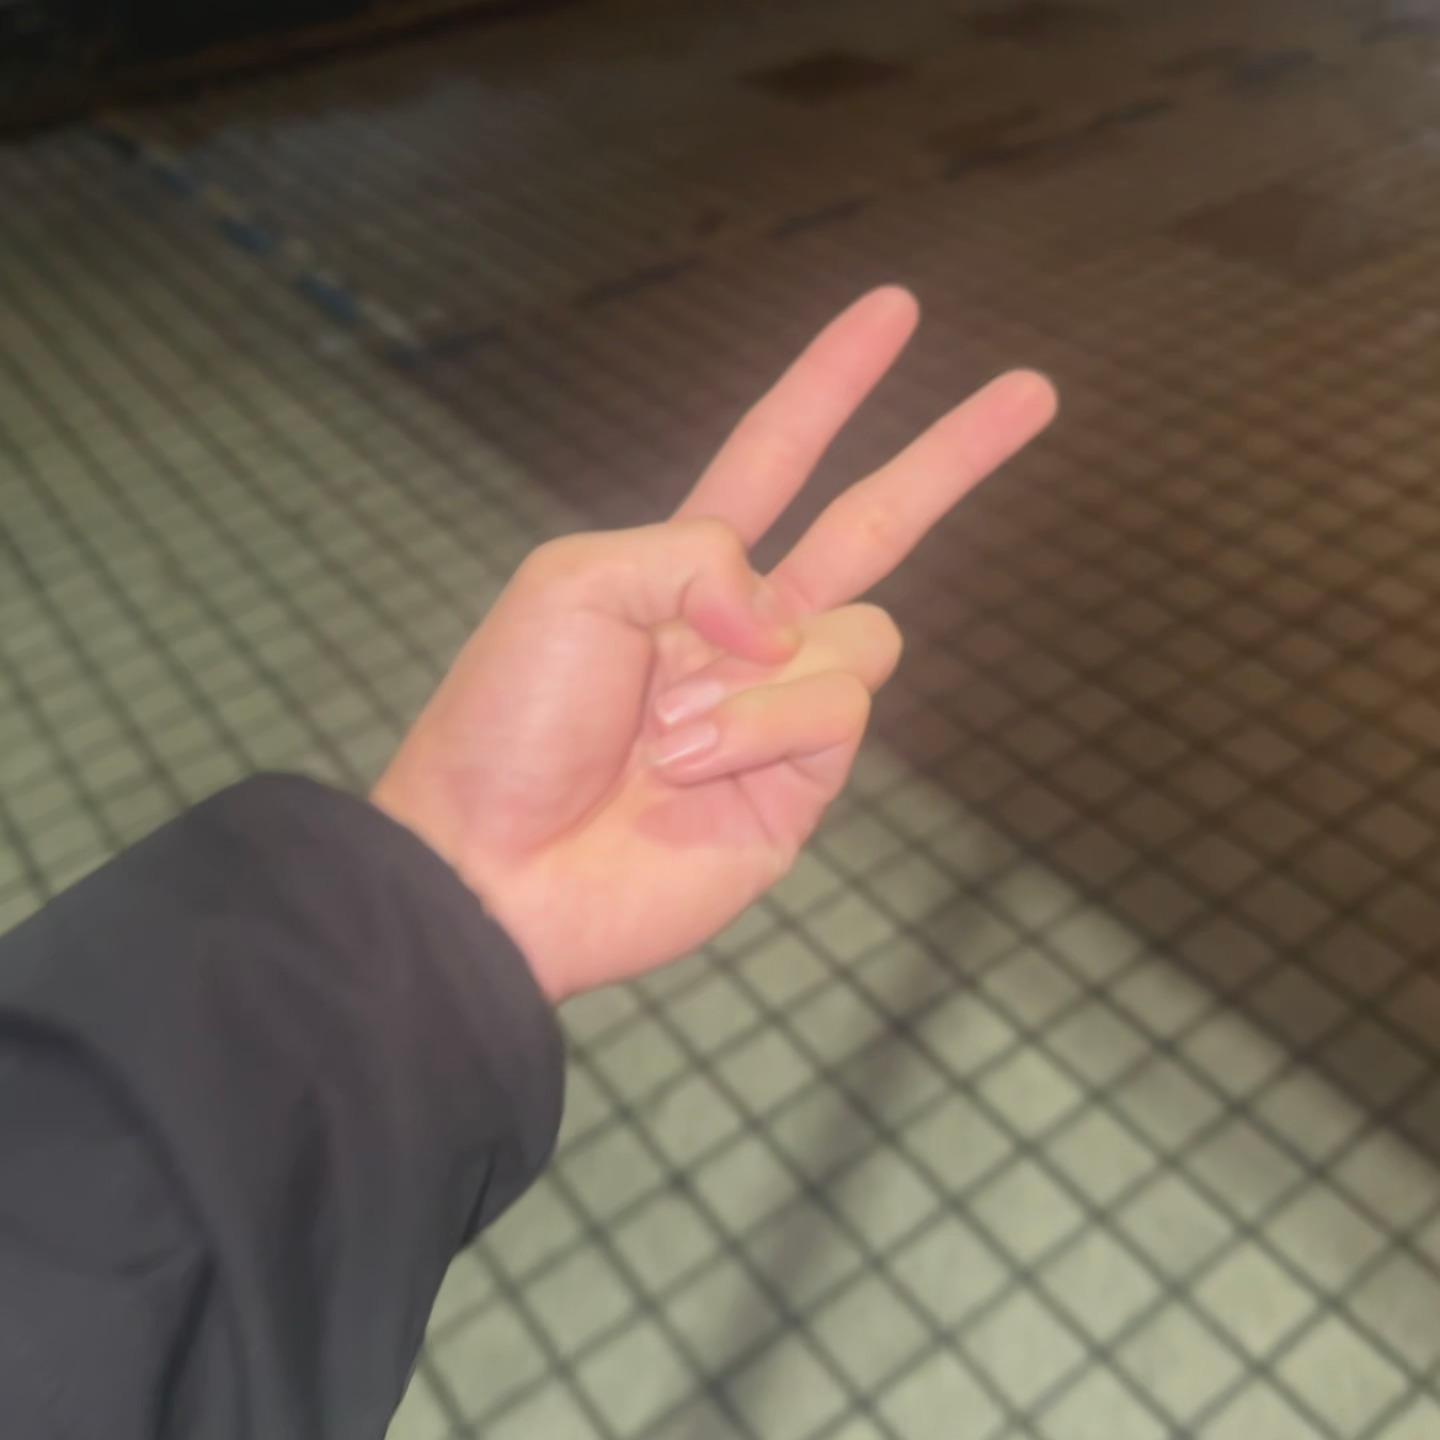without_gloves: (501, 113, 1228, 1000)
